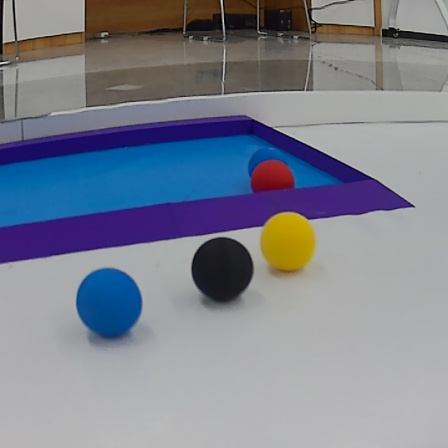black: (189, 231, 261, 306)
blue: (72, 265, 142, 339)
blue_aim: (0, 110, 420, 269)
red: (249, 159, 299, 206)
yellow: (256, 209, 320, 279)
